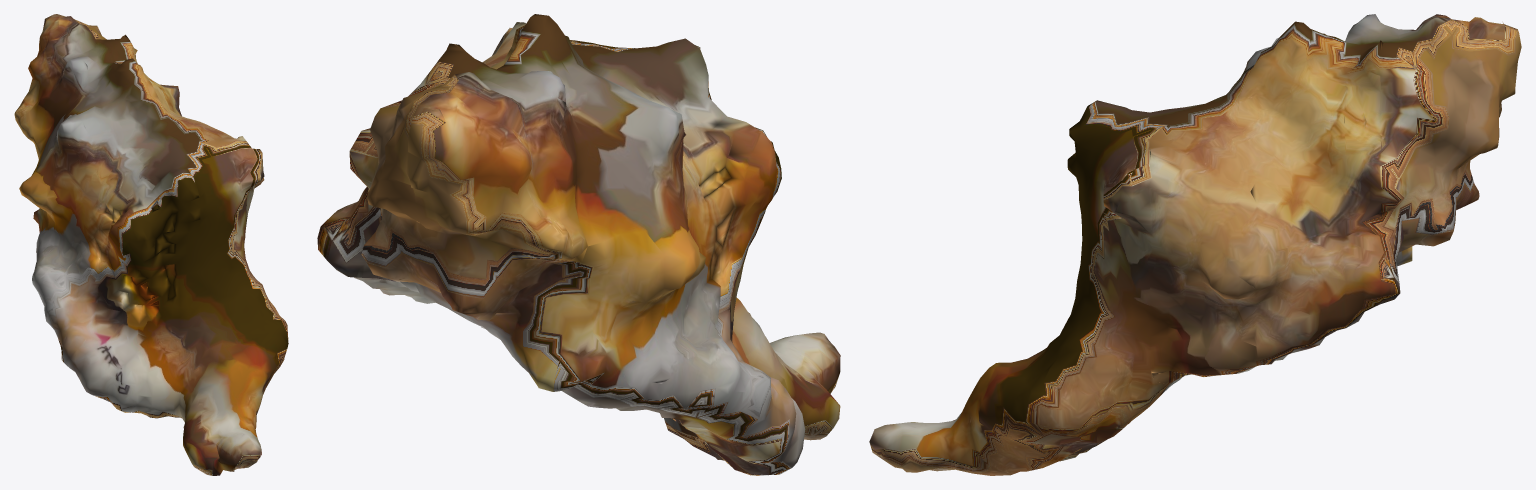
The model's file is shell-c.glb.
3 renders of one model, left to right at view 1: azimuth 30°, elevation 25°; view 2: azimuth 150°, elevation 25°; view 3: azimuth 270°, elevation 25°, orthographic. The views are drawn at different scales.
Visible parts, largest first — view 1: triton-raw; view 2: triton-raw; view 3: triton-raw.
Boxes of the visible parts, <box> form: triton-raw: <box>14,14,288,475</box>; triton-raw: <box>317,14,840,475</box>; triton-raw: <box>869,14,1521,475</box>.
Bounding box in the file's own units: 0.1758 × 0.2417 × 0.3.
Materials: 1 (1 with a texture image).
